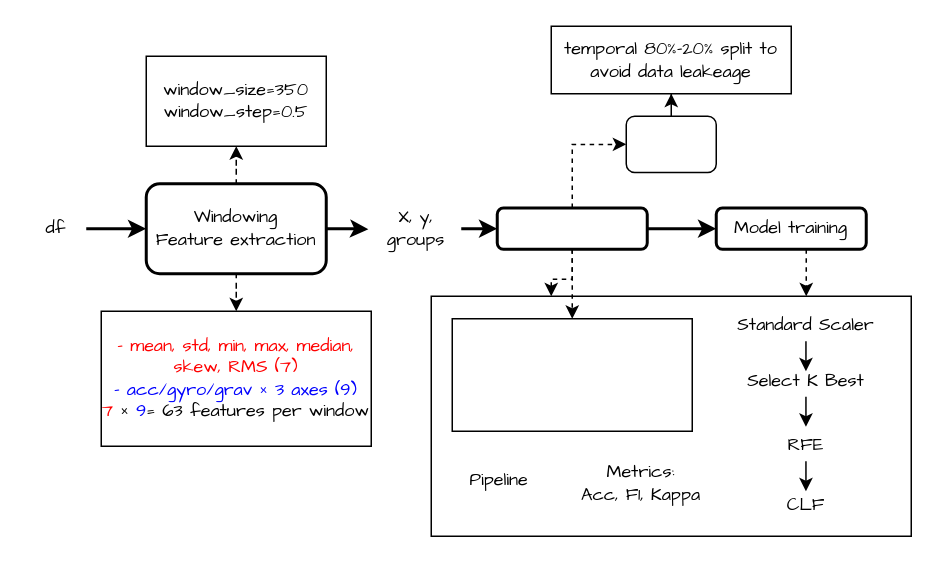
Image size: 938x563. Some labels were removed from this diagram. The box of each missing label's shape, as (x1, y1, x2, y2) in pixels:
Cross-Validation: (495, 206, 648, 250)
data splitting: (625, 115, 716, 172)
full data stratified 5 Fold cross Logistic Regression, D. Trees, KNN, NaiveBayes: (451, 317, 692, 431)
